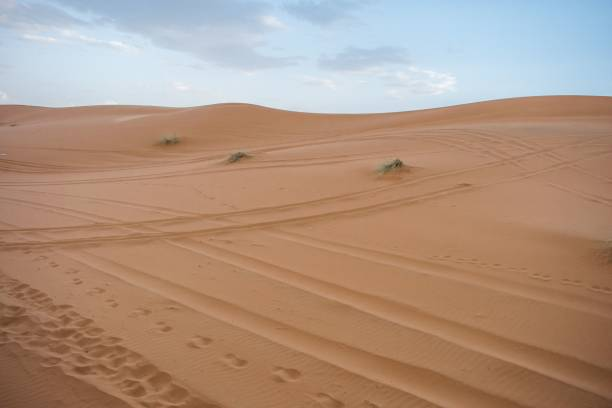vehicle_track: (69, 251, 519, 407), (169, 240, 611, 397), (0, 151, 611, 248), (0, 271, 219, 407), (129, 160, 506, 225)
